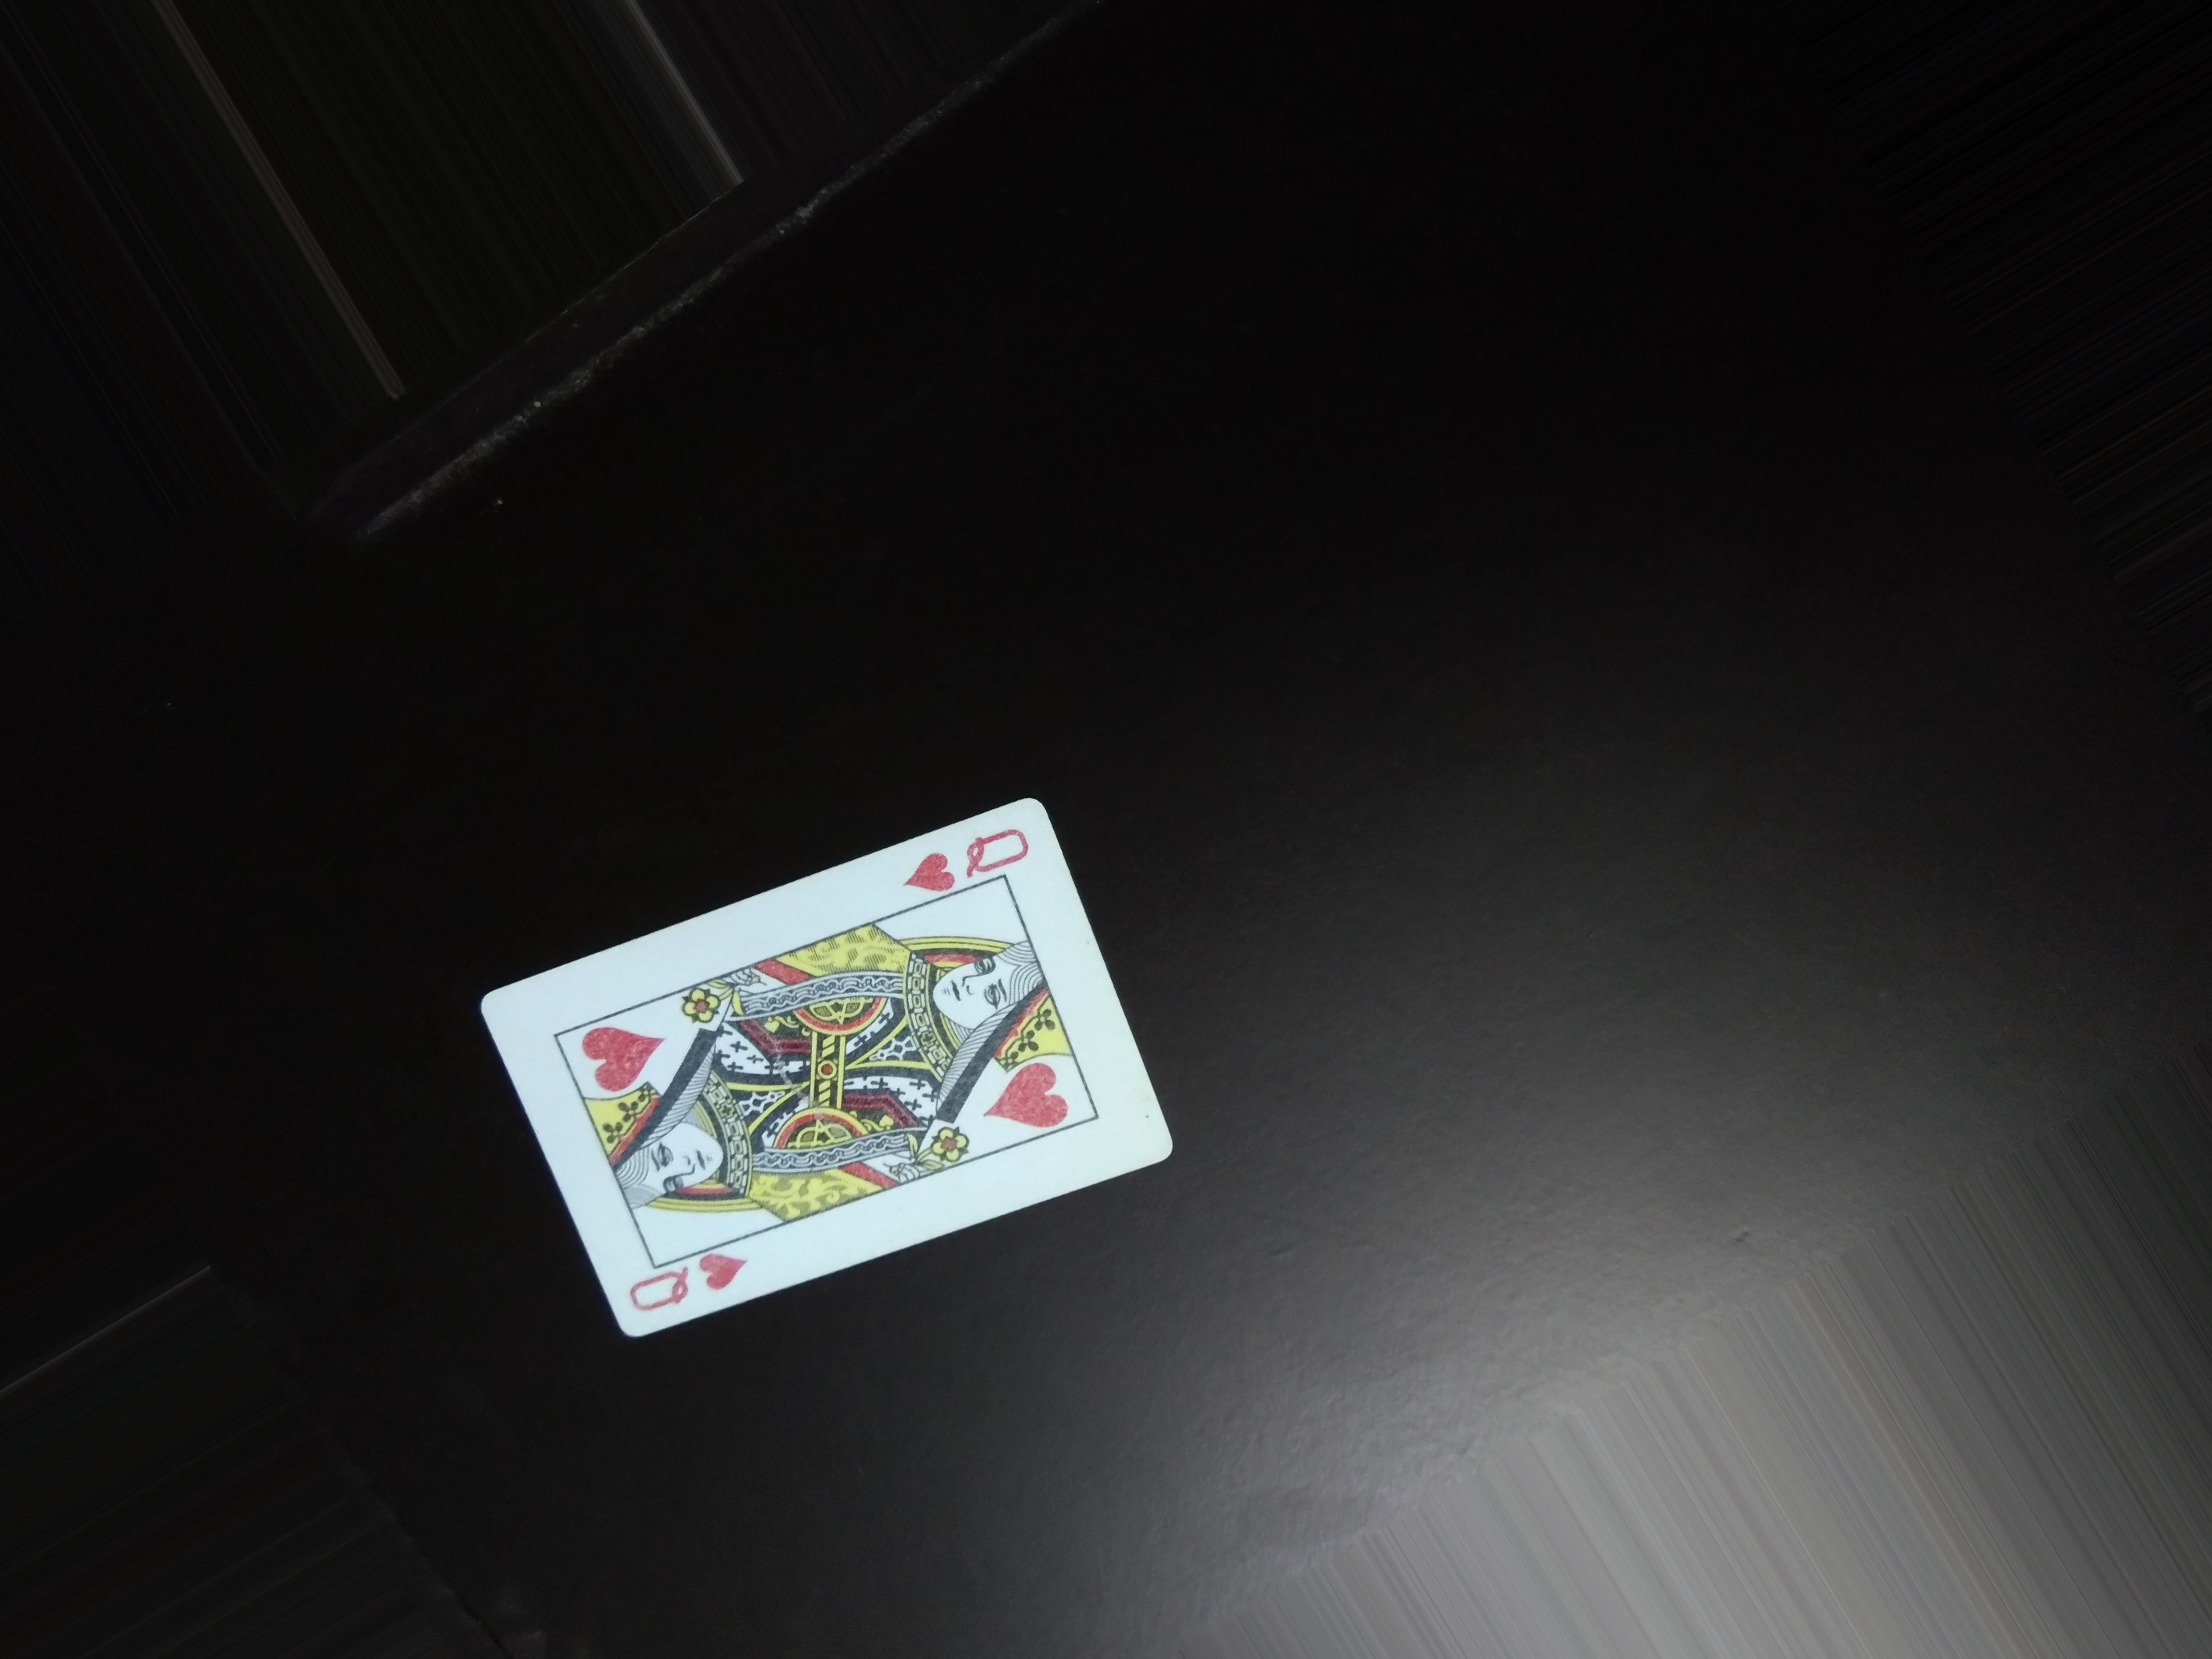QH: (902, 817, 1049, 897)
